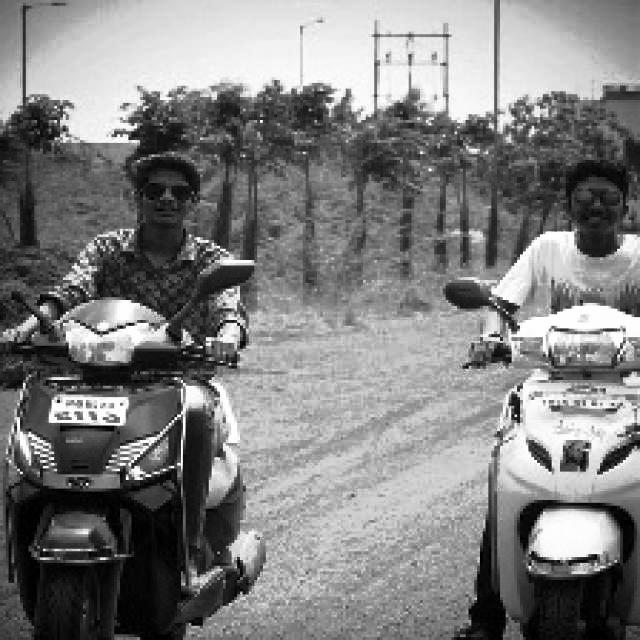Bike: (9, 296, 267, 640), (468, 292, 638, 631)
